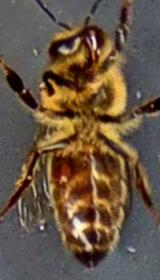varroa_mite: (52, 160, 80, 188)
